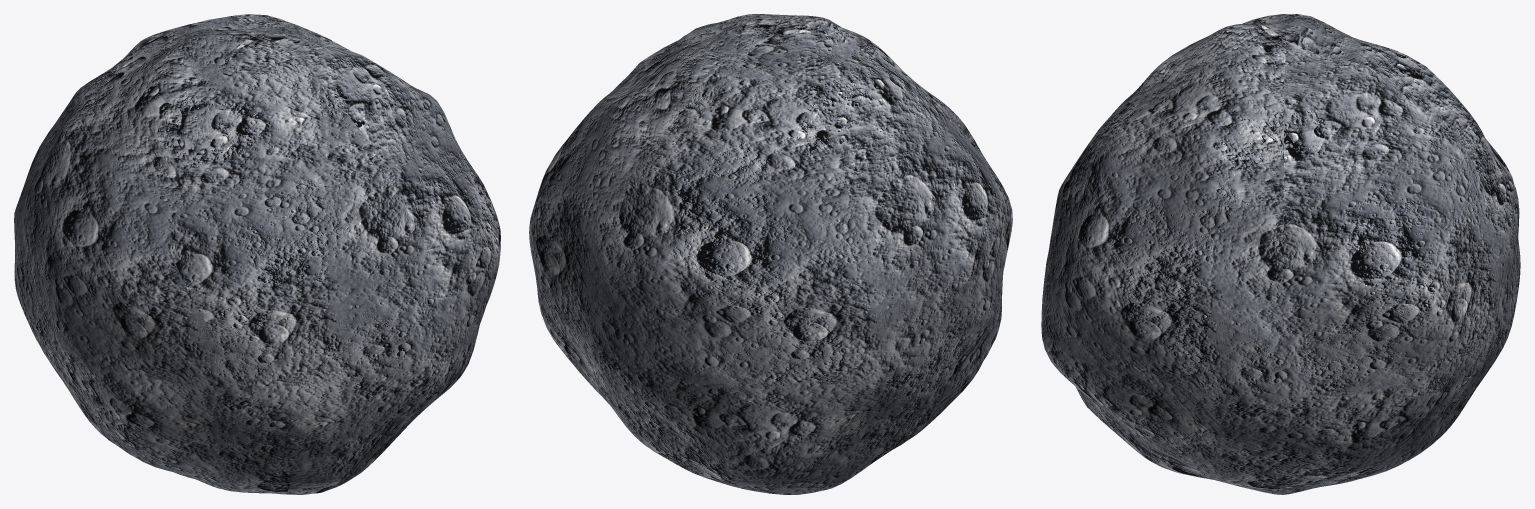
Rendered from lune.fbx.
The picture shows the model from 3 angles, left to right: view 1: azimuth 30°, elevation 25°; view 2: azimuth 150°, elevation 25°; view 3: azimuth 270°, elevation 25°; orthographic projection.
Visible parts, largest first — view 1: lune; view 2: lune; view 3: lune.
Part boxes in pixels (x1,y1,x2,y2): lune: [14, 14, 500, 494]; lune: [529, 14, 1012, 494]; lune: [1041, 14, 1520, 494].
Bounding box in the file's own units: 571 × 579 × 570.
